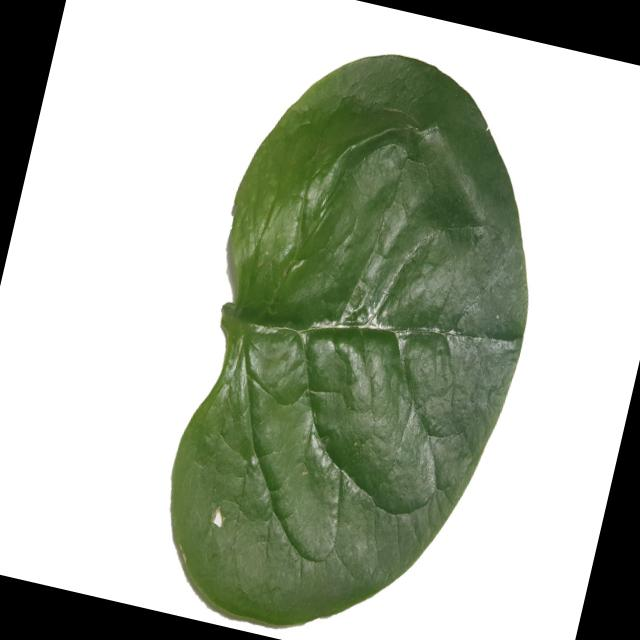Medicinal-Basale: (141, 22, 579, 640)
